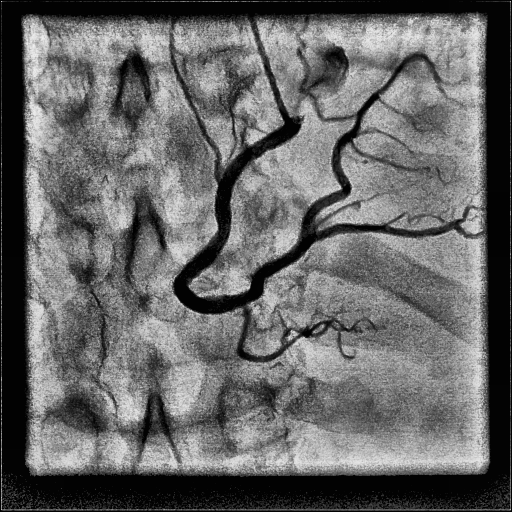pborca: (299, 112, 363, 240)
pda: (308, 221, 485, 242)
rca: (174, 121, 313, 314)
